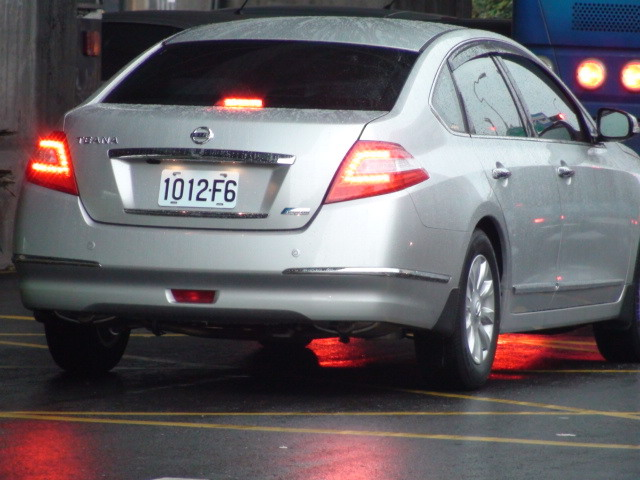plate: (156, 166, 242, 210)
